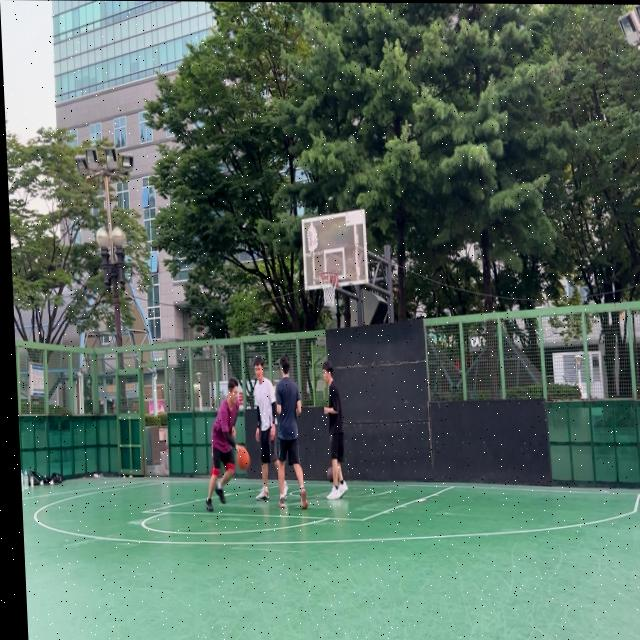basketball: (236, 446, 251, 469), (326, 467, 334, 483)
hoop: (318, 272, 339, 308)
